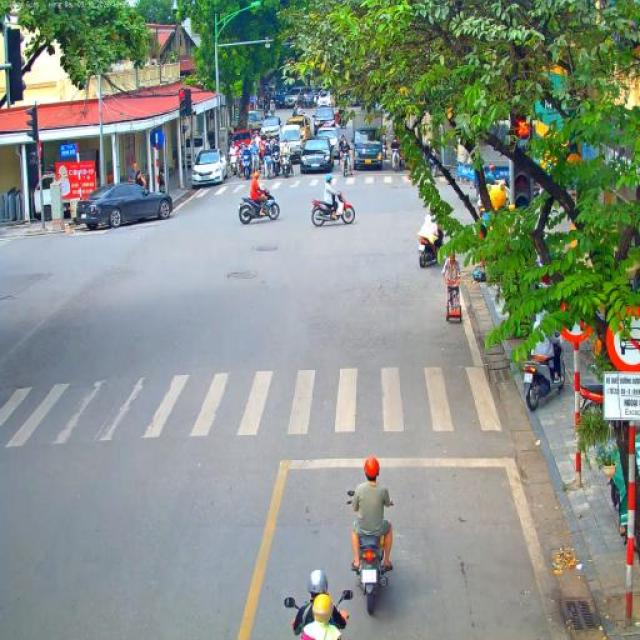car: (74, 180, 174, 230), (192, 148, 228, 187), (299, 135, 335, 174), (280, 124, 305, 164), (318, 127, 341, 164), (286, 116, 312, 148), (313, 106, 337, 136), (258, 117, 282, 144), (284, 87, 308, 109), (233, 129, 253, 153), (246, 110, 263, 135), (269, 86, 286, 105), (316, 92, 332, 108)
motorcycle: (347, 490, 393, 614), (284, 588, 354, 638), (523, 332, 565, 412), (310, 190, 356, 228), (238, 187, 281, 224), (417, 230, 443, 268), (338, 148, 353, 178), (423, 151, 438, 178), (240, 152, 252, 180), (261, 154, 273, 180), (228, 151, 240, 177), (390, 148, 402, 172), (280, 152, 292, 176), (271, 151, 281, 177), (250, 148, 260, 172), (337, 115, 347, 129), (266, 108, 276, 121)
truck: (351, 112, 385, 172)
